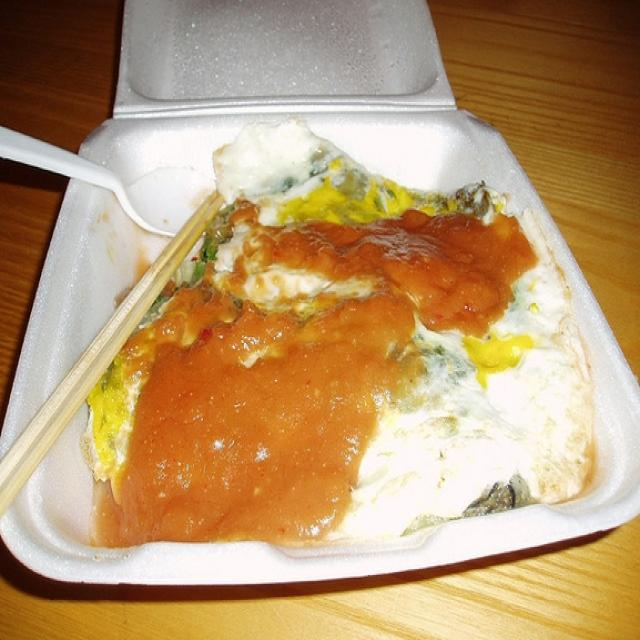熟制海鲜: (26, 40, 596, 594)
